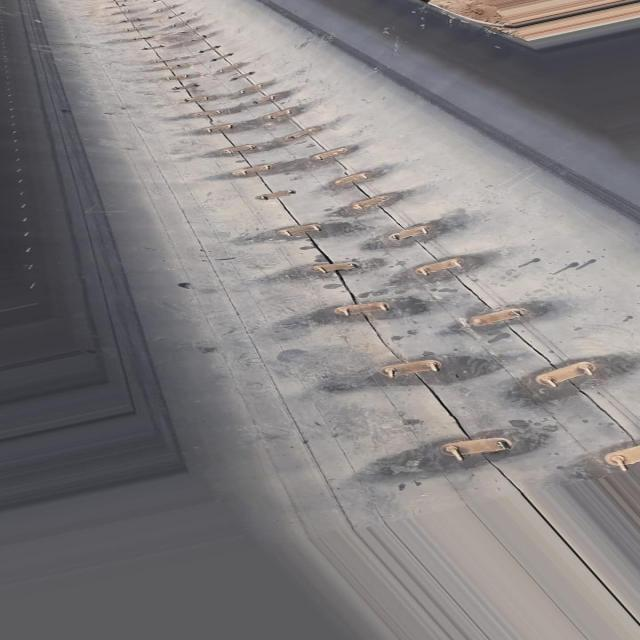patch work: (80, 0, 640, 507)
